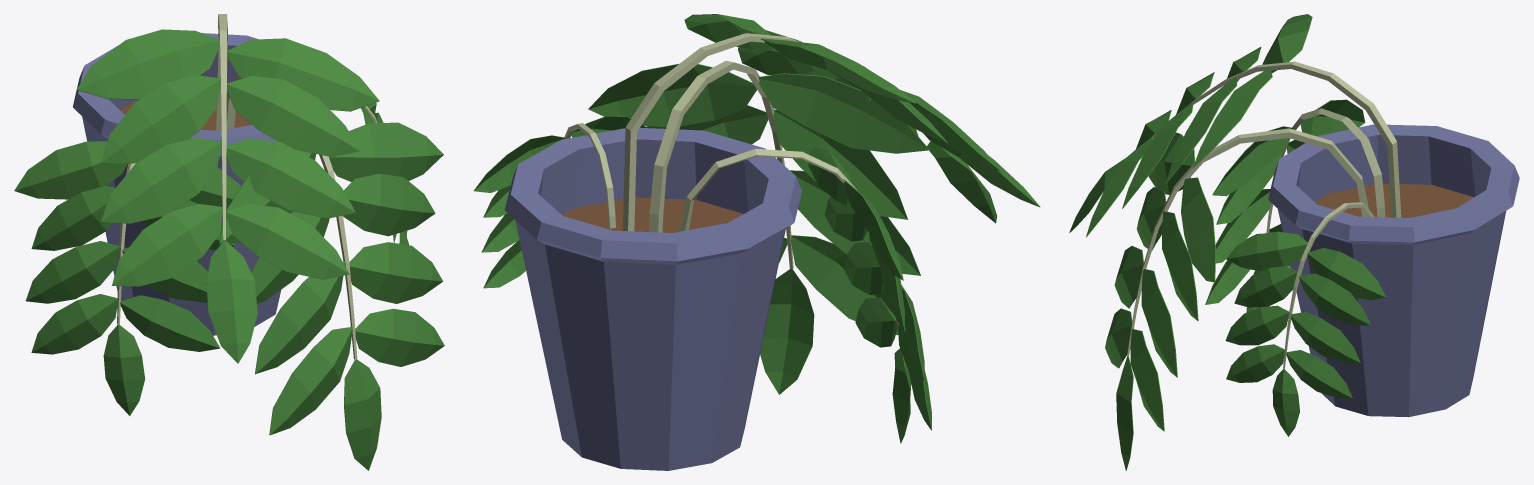
The model's file is Flower_66.fbx.
3 renders of one model, left to right at view 1: azimuth 30°, elevation 25°; view 2: azimuth 150°, elevation 25°; view 3: azimuth 270°, elevation 25°, orthographic. The views are drawn at different scales.
Visible parts, largest first — view 1: Flower_66; view 2: Flower_66; view 3: Flower_66.
Part boxes in pixels (x1,y1,x2,y2): Flower_66: (14,14,444,470); Flower_66: (473,14,1040,470); Flower_66: (1069,14,1519,470).
Bounding box in the file's own units: 47.54 × 49.83 × 47.35.
